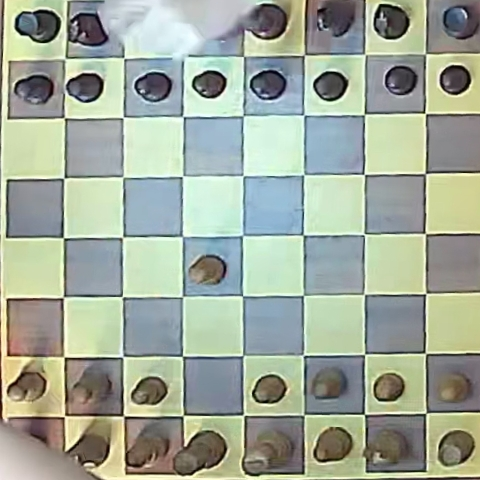black-bishop: (316, 2, 354, 37)
black-king: (244, 3, 286, 39)
black-knight: (68, 12, 108, 46), (373, 4, 410, 39)
black-pawn: (14, 74, 54, 105), (134, 71, 172, 102), (66, 72, 104, 102), (249, 69, 286, 99), (438, 64, 471, 95), (313, 70, 347, 100), (384, 65, 417, 95), (192, 70, 227, 98)
black-rook: (15, 9, 60, 44), (442, 5, 479, 39)
white-bishop: (126, 428, 170, 468), (314, 427, 352, 463)
white-king: (242, 428, 295, 480)
white-knight: (363, 428, 407, 465), (68, 433, 109, 467)
white-pawn: (71, 369, 111, 405), (7, 371, 46, 402), (188, 255, 225, 286), (311, 367, 346, 399), (131, 377, 167, 405), (252, 374, 286, 403), (438, 373, 470, 403), (373, 372, 405, 401)
white-queen: (174, 430, 226, 475)
white-rook: (437, 430, 474, 466)
